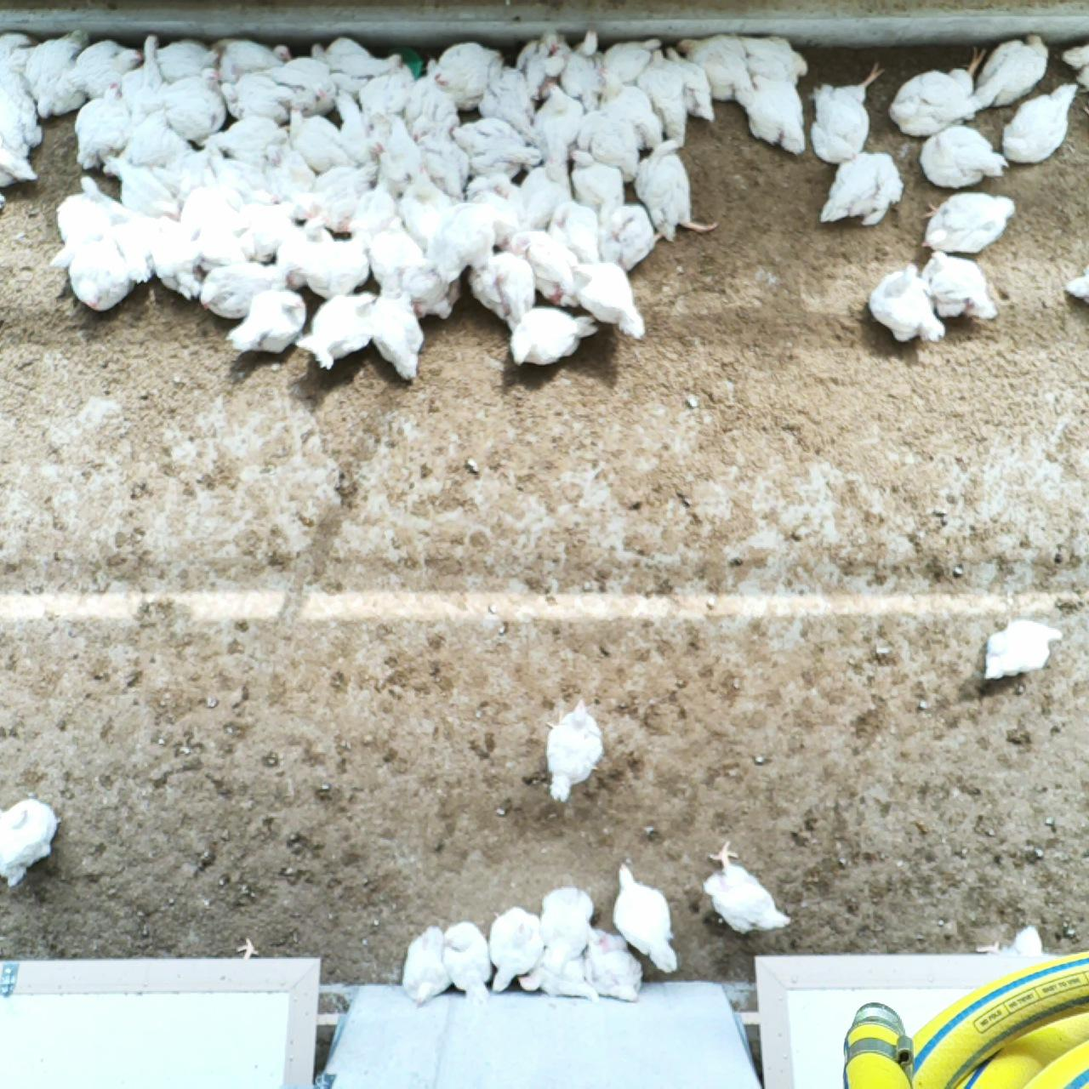chicken: (627, 135, 723, 243), (886, 41, 987, 140), (701, 837, 792, 937), (808, 61, 889, 169), (608, 858, 681, 975), (429, 192, 512, 286), (541, 693, 607, 811), (292, 289, 380, 376), (54, 169, 124, 278), (441, 112, 545, 184), (63, 215, 137, 312), (567, 258, 651, 343), (998, 77, 1079, 165), (867, 258, 948, 346), (817, 151, 905, 229), (223, 284, 317, 357), (912, 246, 1002, 321), (592, 61, 665, 153), (592, 193, 672, 276), (300, 157, 379, 241), (197, 255, 297, 321), (917, 188, 1020, 252), (177, 184, 253, 269), (914, 120, 1008, 188), (976, 27, 1053, 110), (977, 615, 1065, 687), (22, 24, 89, 118), (413, 107, 480, 201), (468, 246, 541, 332), (284, 97, 361, 177), (726, 75, 803, 155), (296, 225, 376, 302), (502, 223, 577, 304), (374, 254, 467, 319), (366, 288, 427, 387), (101, 149, 185, 220), (677, 28, 755, 104), (270, 209, 338, 296), (535, 883, 600, 974), (160, 63, 231, 146), (72, 77, 134, 172), (517, 939, 604, 1006), (0, 793, 60, 890), (506, 305, 599, 367), (424, 42, 503, 114), (571, 104, 643, 182), (61, 33, 144, 99), (200, 107, 291, 167), (310, 30, 398, 92), (461, 167, 525, 252), (581, 924, 648, 1005), (265, 48, 342, 118), (633, 46, 687, 145), (439, 918, 495, 1012), (367, 103, 426, 192), (115, 105, 198, 168), (512, 25, 577, 105), (558, 143, 628, 216), (534, 76, 584, 178), (148, 215, 205, 304), (396, 163, 453, 252), (106, 200, 167, 282), (364, 215, 429, 291), (398, 920, 455, 1005), (486, 907, 541, 995), (235, 190, 303, 261), (478, 64, 538, 144), (658, 43, 718, 123), (149, 140, 218, 207), (203, 142, 273, 208), (219, 66, 293, 128), (119, 29, 172, 115), (520, 150, 574, 234), (735, 27, 808, 89), (402, 69, 463, 143), (331, 90, 390, 165), (359, 48, 420, 119), (561, 29, 613, 112), (214, 34, 295, 87), (346, 168, 401, 244), (594, 33, 668, 88), (153, 33, 225, 86), (0, 68, 47, 149), (546, 201, 604, 264), (256, 142, 315, 202), (975, 919, 1050, 959), (748, 67, 804, 118), (0, 128, 39, 195), (0, 25, 43, 74), (1060, 37, 1089, 92), (1063, 259, 1089, 306)
